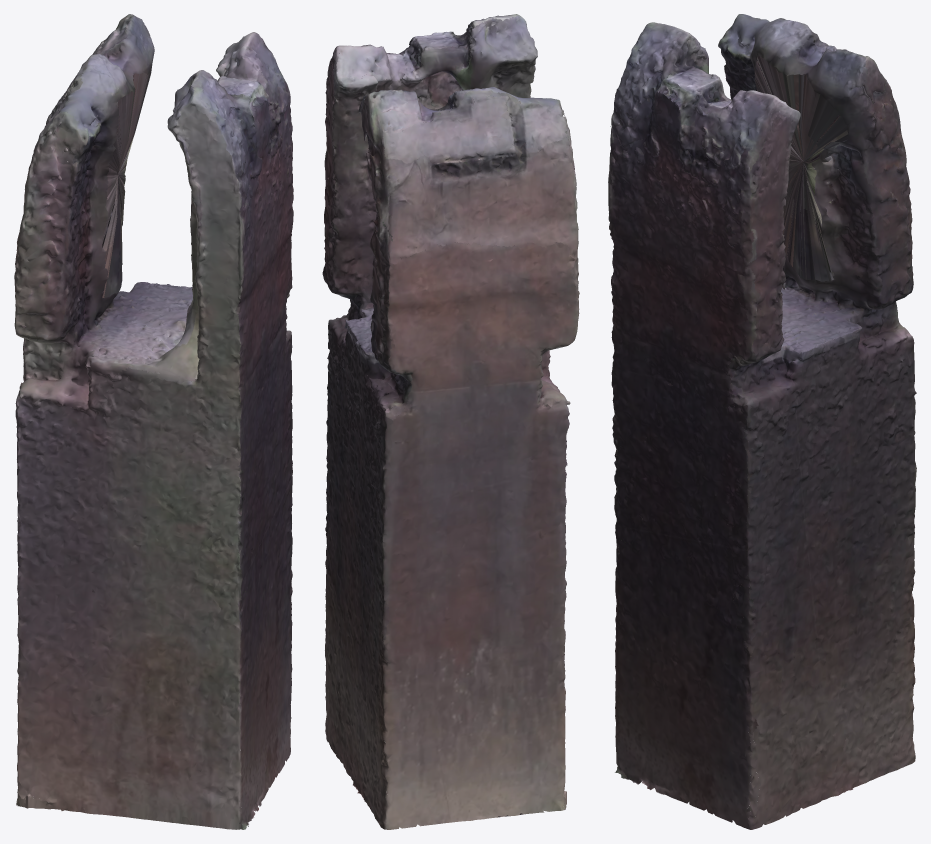
The model's file is preview.glb.
3 views of the same model, side by side, from view 1: azimuth 30°, elevation 25°; view 2: azimuth 150°, elevation 25°; view 3: azimuth 270°, elevation 25° (orthographic). The views are drawn at different scales.
Parts seen in each view (by area): view 1: chillida3_0, chillida3_1; view 2: chillida3_0, chillida3_1; view 3: chillida3_0, chillida3_1.
Boxes of the visible parts, bbox=[...] form: chillida3_0: bbox=[14, 14, 293, 829]; chillida3_1: bbox=[14, 14, 293, 829]; chillida3_0: bbox=[322, 15, 579, 829]; chillida3_1: bbox=[324, 14, 579, 810]; chillida3_0: bbox=[608, 14, 916, 829]; chillida3_1: bbox=[608, 14, 915, 829].
Bounding box in the file's own units: 1.67 × 4.38 × 1.66.
2 materials, 2 textured.
